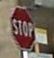stop: (8, 4, 36, 51)
